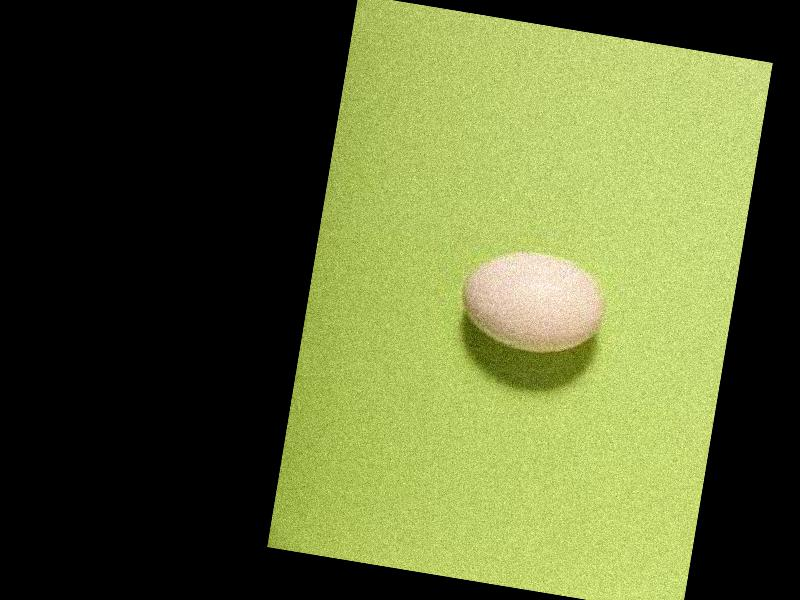Eggs: (452, 244, 610, 362)
